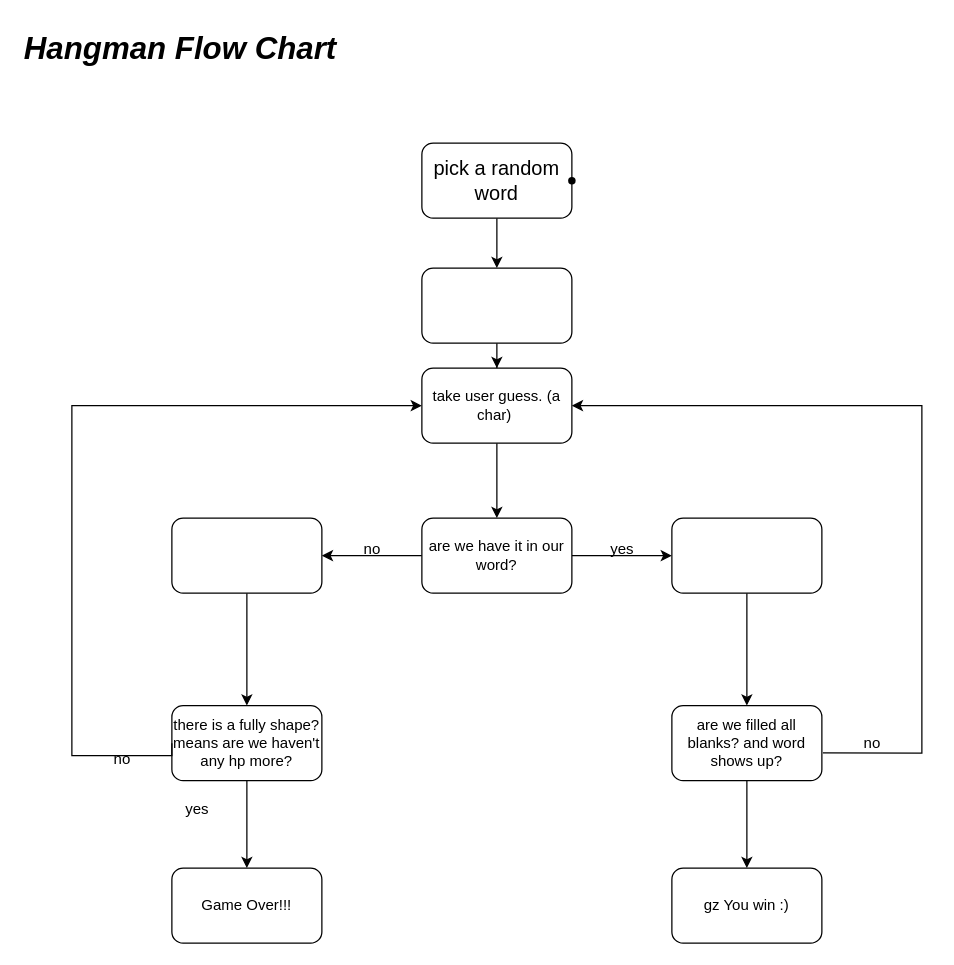
Image size: 954x965. Some labels were removed from this diagram. Here are the shapes that lost their labels. From the top down, the centre of each, then its label:
At [496,305]: "enough blanks for each char of word to show and work with".
At [246,555]: "draw one piece of hangman shape".
At [746,555]: "fill one of blanks at right index based on the word".
